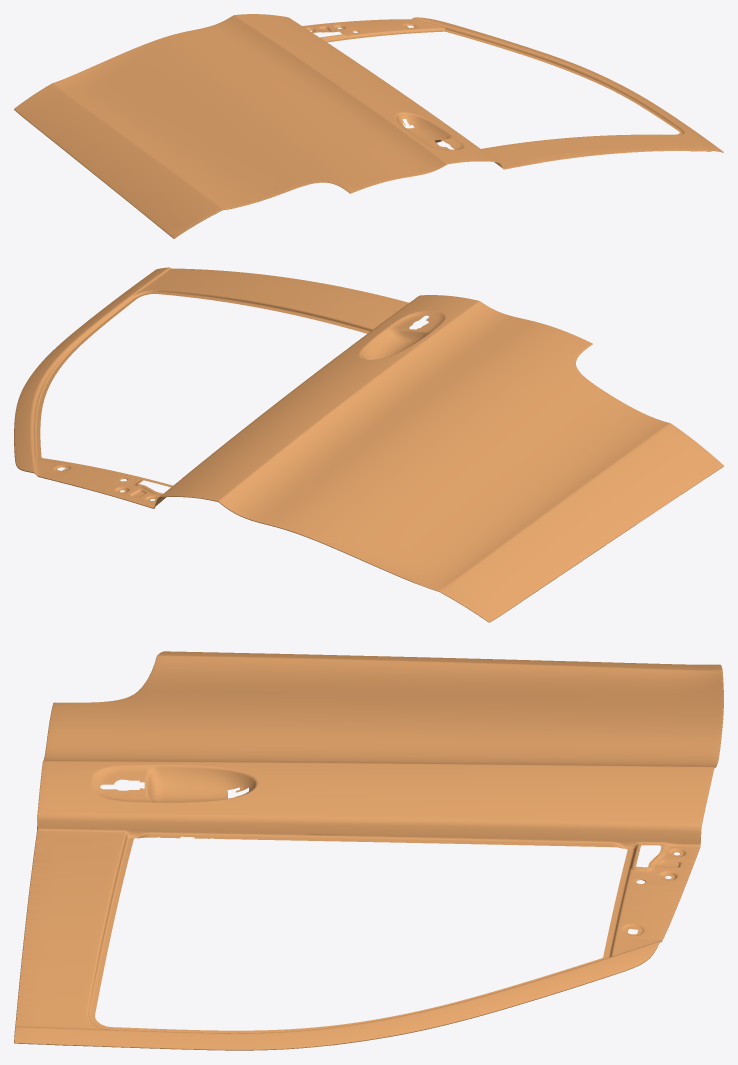
Rendered from car_VITO.dae.
3 renders of one model, top to bottom at view 1: azimuth 30°, elevation 25°; view 2: azimuth 150°, elevation 25°; view 3: azimuth 270°, elevation 25°, orthographic. The views are drawn at different scales.
Visible parts, largest first — view 1: A1 1P.001; view 2: A1 1P.001; view 3: A1 1P.001.
Boxes of the visible parts, bbox=[...] form: A1 1P.001: bbox=[14, 14, 723, 238]; A1 1P.001: bbox=[14, 267, 723, 622]; A1 1P.001: bbox=[14, 651, 723, 1050].
Bounding box in the file's own units: 1.45 × 1.11 × 0.1407.
